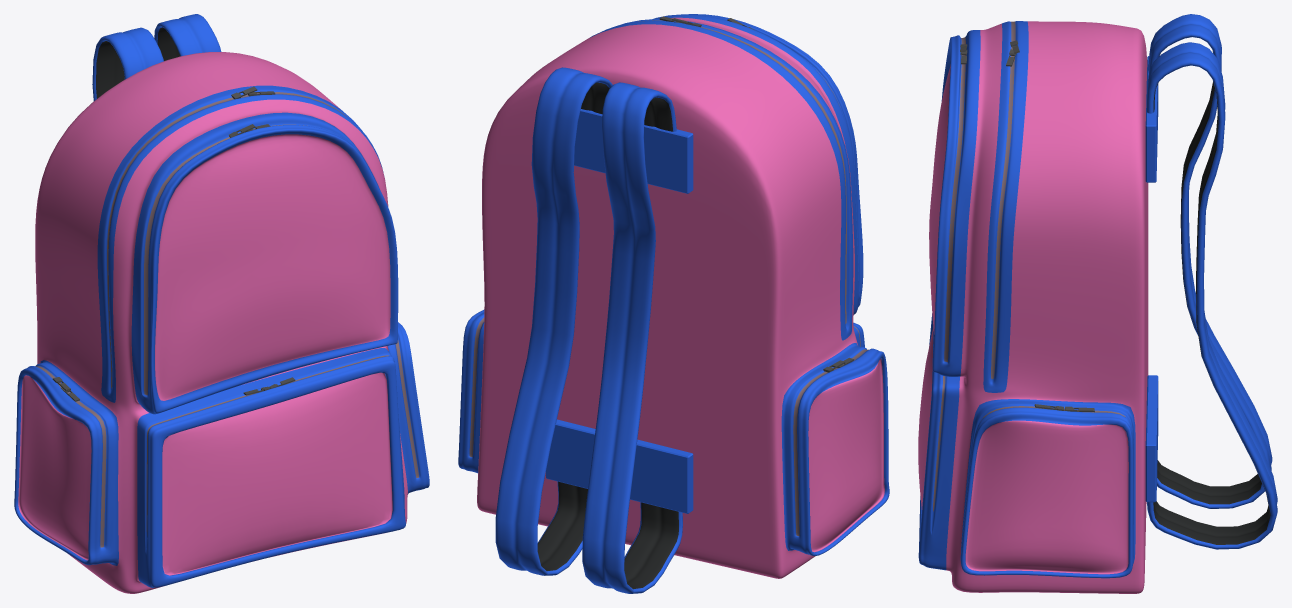
The model's file is BAG .fbx.
The picture shows the model from 3 angles, left to right: view 1: azimuth 30°, elevation 25°; view 2: azimuth 150°, elevation 25°; view 3: azimuth 270°, elevation 25°; orthographic projection. The views are drawn at different scales.
Visible parts, largest first — view 1: Cube.054; view 2: Cube.054; view 3: Cube.054.
Part boxes in pixels (box(x1,y1,x2,y2)): Cube.054: box(14, 14, 429, 593); Cube.054: box(458, 14, 889, 593); Cube.054: box(918, 14, 1277, 593).
Bounding box in the file's own units: 156 × 197 × 132.
